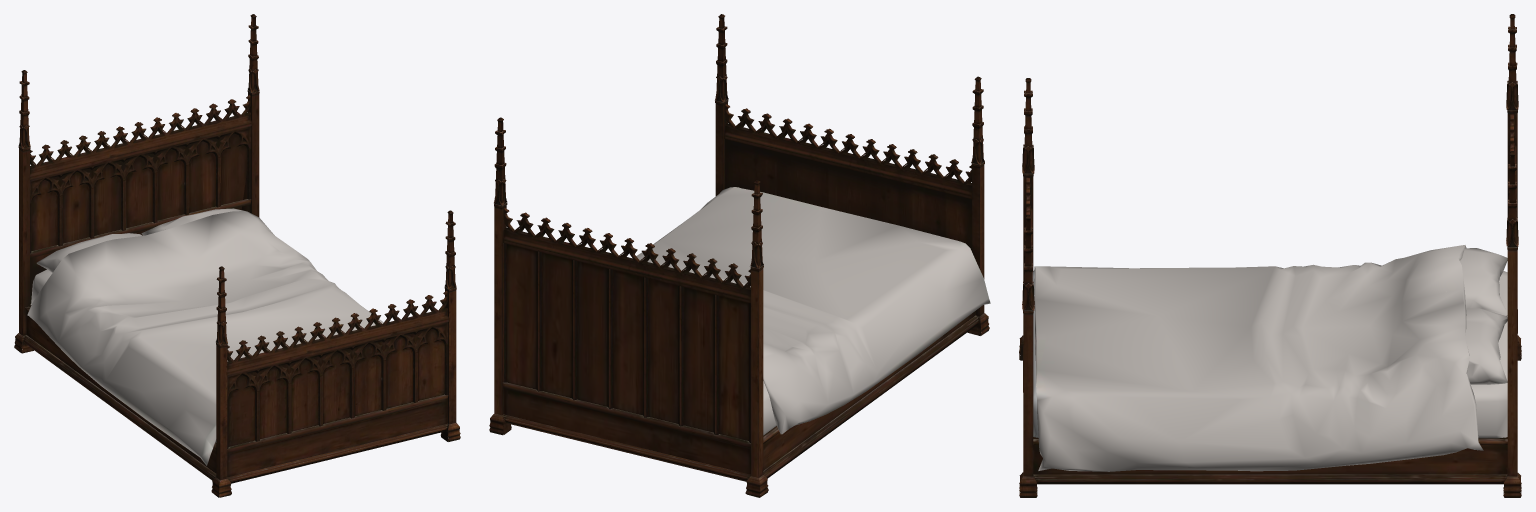
File: GothicBed_01.glb
The picture shows the model from 3 angles, left to right: view 1: azimuth 30°, elevation 25°; view 2: azimuth 150°, elevation 25°; view 3: azimuth 270°, elevation 25°; orthographic projection. The views are drawn at different scales.
Parts seen in each view (by area): view 1: GothicBed_01; view 2: GothicBed_01; view 3: GothicBed_01.
Boxes of the visible parts, x1=… form: GothicBed_01: x1=14, y1=14, x2=460, y2=497; GothicBed_01: x1=489, y1=14, x2=990, y2=497; GothicBed_01: x1=1019, y1=14, x2=1521, y2=497.
Bounding box in the file's own units: 1.49 × 1.53 × 2.04.
Materials: 1 (1 with a texture image).
